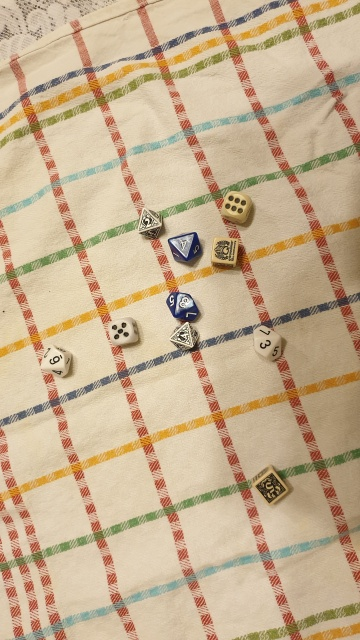d10-3: (248, 321, 286, 367), (160, 285, 203, 323)
d10-4: (165, 226, 202, 267)
d10-6: (38, 342, 74, 381)
d6-5: (106, 315, 140, 350)
d6-6: (216, 187, 255, 225)
d6p-5: (248, 462, 291, 508)
d6p-6: (209, 235, 242, 271)
d8p-2: (132, 205, 163, 240)
d8p-4: (165, 319, 202, 355)
